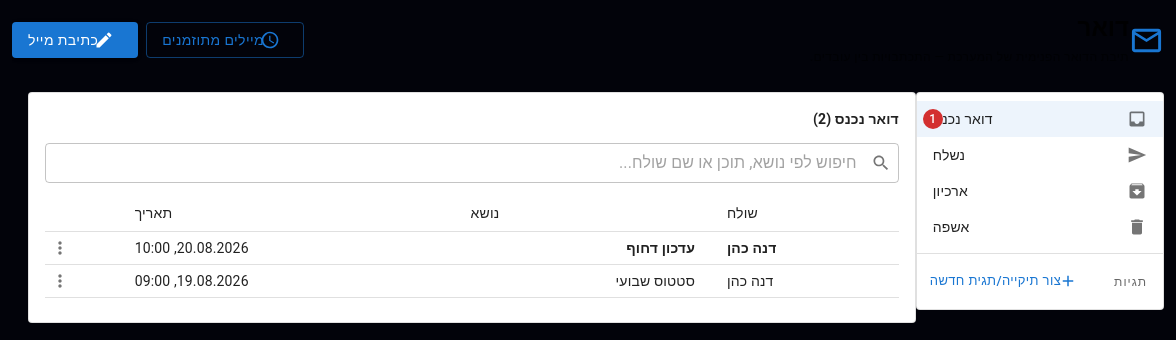
Test: Emails › switching folders via the sidebar re-fetches the list for that folder
Expected: the text "עדכון דחוף" is shown, left=626, top=238, right=695, bottom=258
Click the button with test id "email-folder-SENT". click: (949, 155)
box: left=933, top=145, right=1147, bottom=165
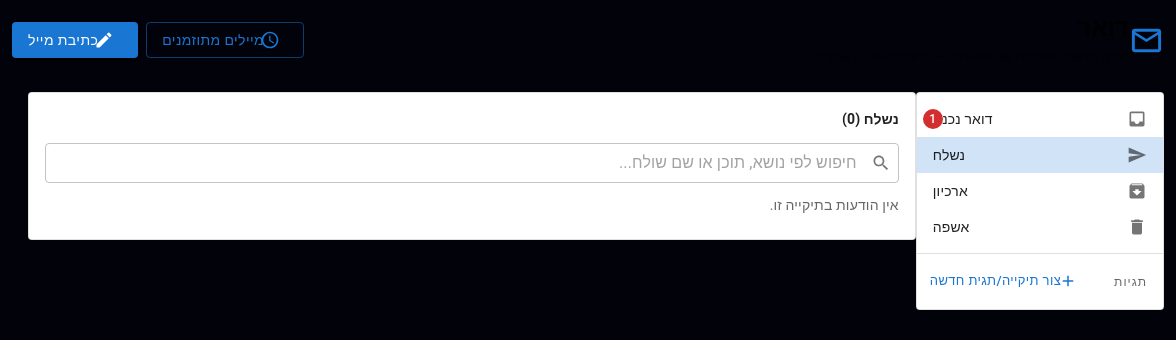
Expected: the text "אין הודעות בתיקייה זו." is shown, left=770, top=197, right=899, bottom=213
